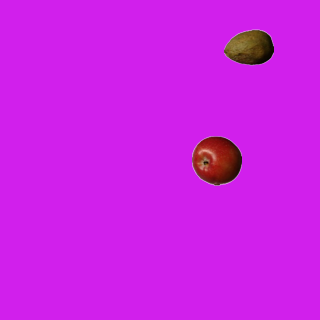Apple Braeburn: (191, 135, 241, 185)
Papaya: (223, 22, 273, 72)
